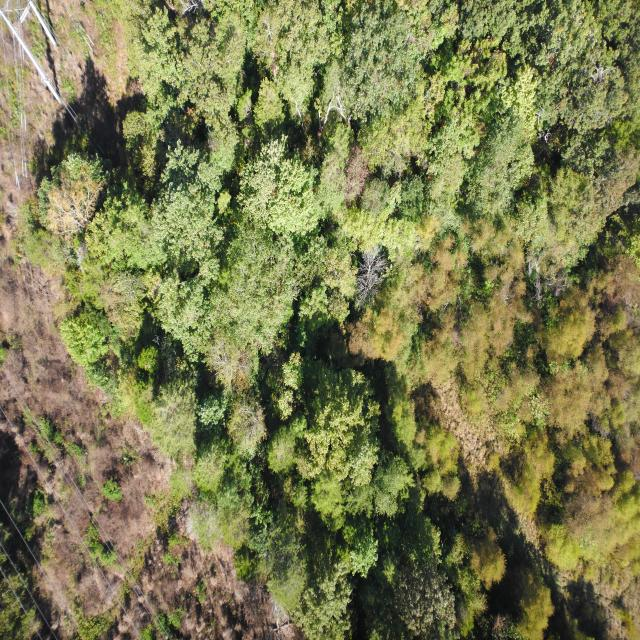Area of Interest: (25, 0, 634, 640)
